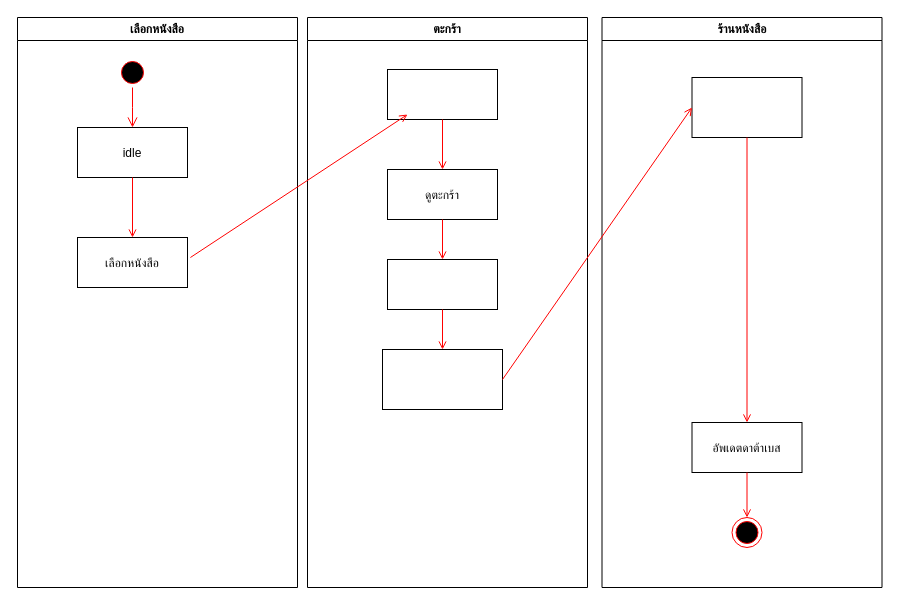
Image size: 900x605. Some labels were removed from this diagram. Here are the shapes that lost their labels. From the top down, the centre of each, then its label:
At (442,94): "ใส่ตะกร้า".
At (746,107): "ส่งของ".
At (442,284): "แก้ใขสินค้า".
At (442,379): "สั่งซื้อ".
